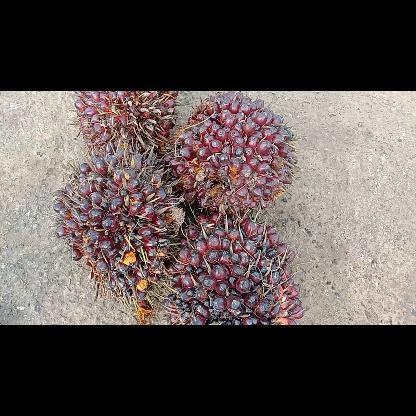Kurang masak: (50, 141, 188, 304), (164, 208, 308, 324), (67, 90, 182, 156)
TBS masak: (164, 90, 300, 220)
